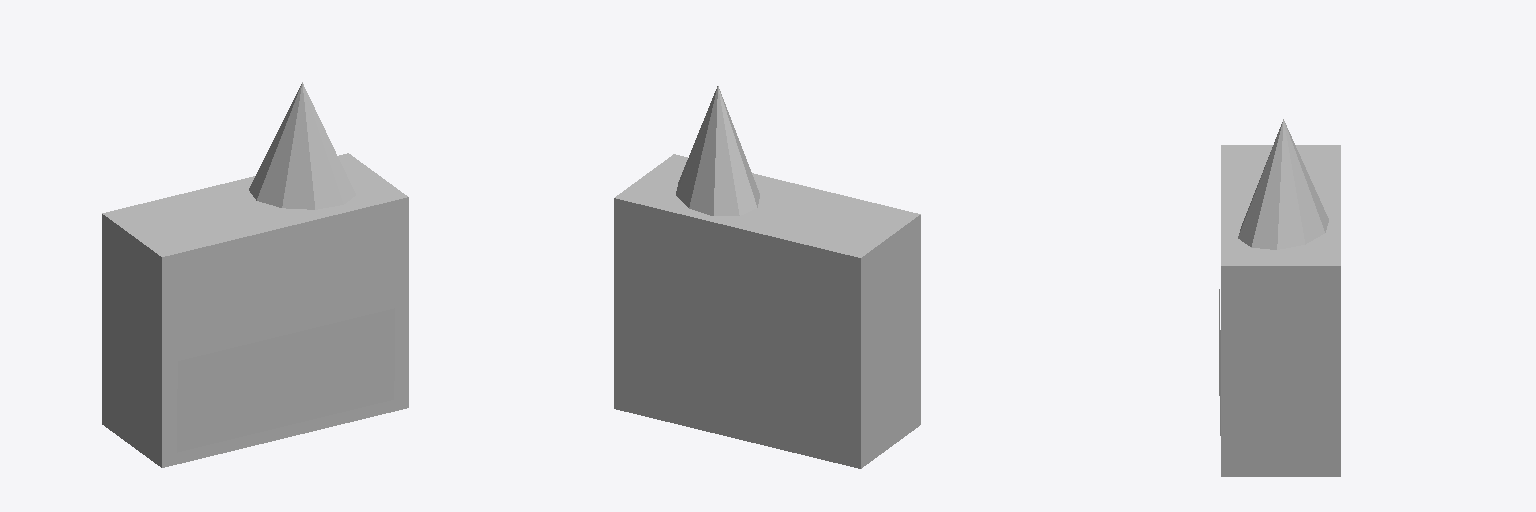
Rendered from Capgemini.obj.
3 views of the same model, side by side, from view 1: azimuth 30°, elevation 25°; view 2: azimuth 150°, elevation 25°; view 3: azimuth 270°, elevation 25° (orthographic).
Visible parts, largest first — view 1: 002_Box_-_baked, 000_Capgemini_Logo, 003_Cone, 001_PngItem_313579; view 2: 002_Box_-_baked, 003_Cone; view 3: 002_Box_-_baked, 003_Cone.
Part boxes in pixels (left/top/right/bottom): 002_Box_-_baked: left=102, top=153, right=408, bottom=467; 000_Capgemini_Logo: left=177, top=308, right=394, bottom=452; 003_Cone: left=249, top=82, right=355, bottom=209; 001_PngItem_313579: left=176, top=247, right=241, bottom=321; 002_Box_-_baked: left=614, top=154, right=920, bottom=468; 003_Cone: left=676, top=86, right=759, bottom=215; 002_Box_-_baked: left=1221, top=145, right=1340, bottom=476; 003_Cone: left=1238, top=119, right=1328, bottom=249.
Size of the model in its own units: 290 by 361 by 125.